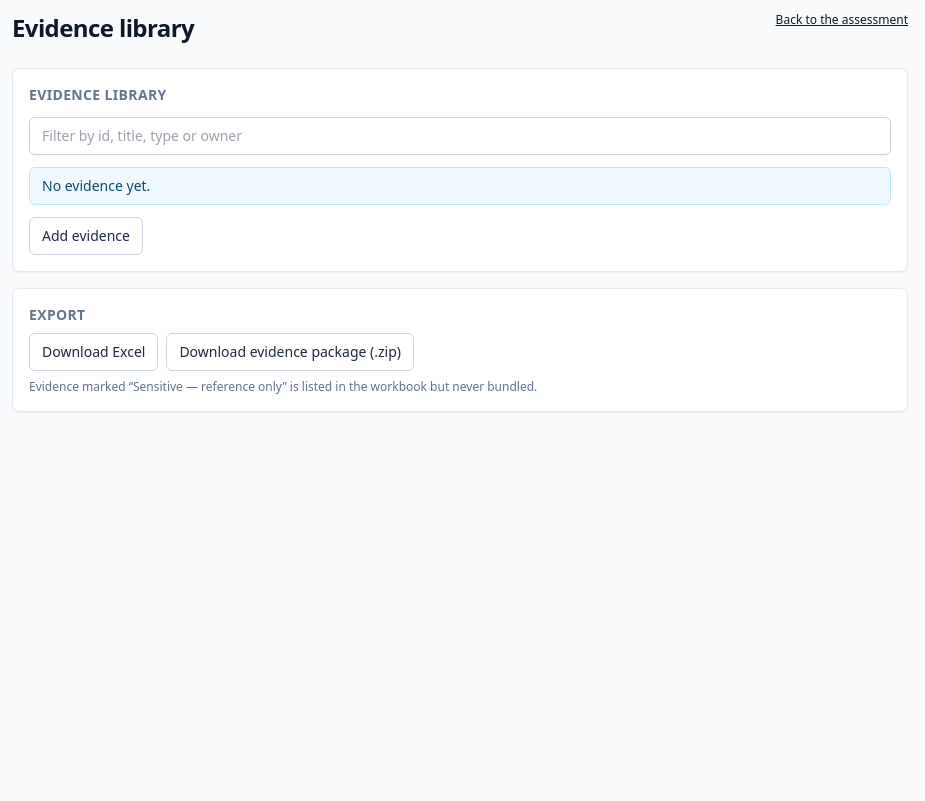
Scenario: Tier 2 — evidence › hides the file input for sensitive, reference-only evidence
Click the button "Add evidence": (86, 236) [29,217,143,255]
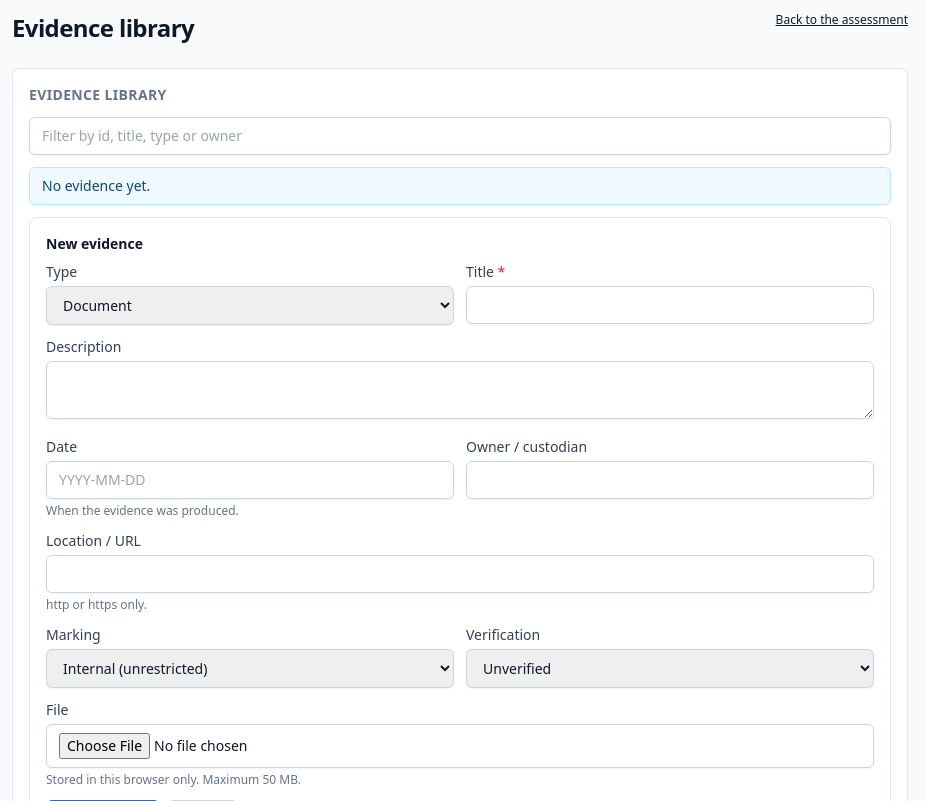
Check: the file field labelled "File" is shown, box [46,724,874,768]
Select "Sensitive — reference only" in the dropdown labelled "Marking": (250, 668) [46,649,454,688]
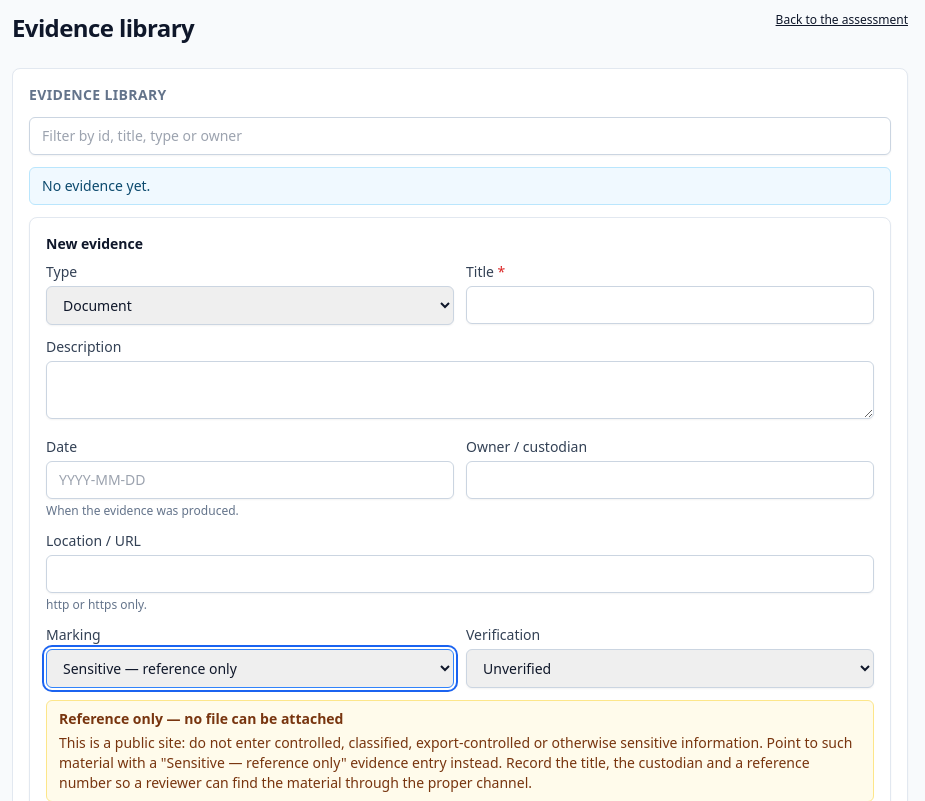
Check: the text "Reference only — no file can be attached" is shown, box [59,709,344,728]
